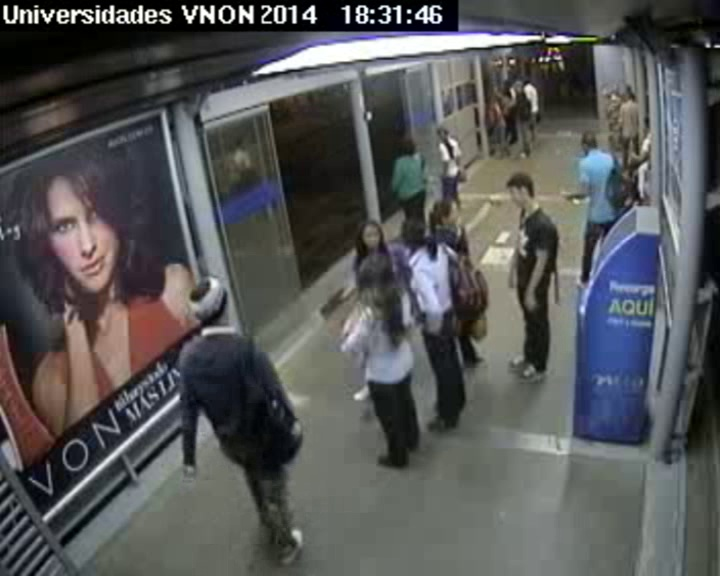person: (188, 275, 239, 331), (355, 249, 397, 294), (504, 171, 541, 212), (432, 193, 465, 227), (398, 217, 429, 249), (355, 220, 384, 250), (579, 131, 601, 153), (395, 136, 416, 157), (436, 125, 451, 141), (627, 92, 638, 103), (489, 91, 499, 101), (513, 76, 522, 86), (522, 75, 531, 84), (623, 84, 631, 93), (609, 91, 617, 100), (504, 80, 512, 88)
